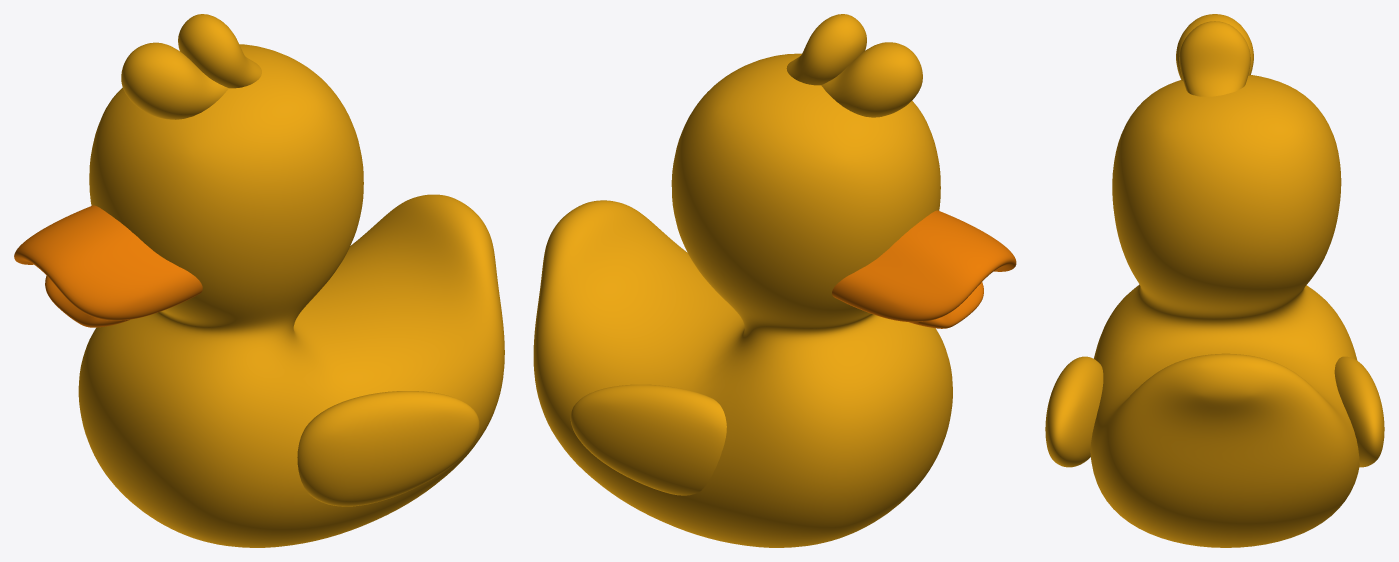
File: RUBBER DUCK.glb
3 renders of one model, left to right at view 1: azimuth 30°, elevation 25°; view 2: azimuth 150°, elevation 25°; view 3: azimuth 270°, elevation 25°, orthographic. The views are drawn at different scales.
Visible parts, largest first — view 1: Cube.005, Cube.010, Cube.006, Cube.009, Cube.008, Cube.007; view 2: Cube.005, Cube.010, Cube.006, Cube.009, Cube.008, Cube.007; view 3: Cube.005, Cube.010, Cube.008, Cube.009.
Part boxes in pixels (x1,y1,x2,y2): Cube.005: [78, 44, 504, 547]; Cube.010: [297, 391, 479, 506]; Cube.006: [14, 205, 202, 320]; Cube.009: [121, 42, 228, 119]; Cube.008: [178, 14, 261, 88]; Cube.007: [45, 275, 129, 327]; Cube.005: [533, 53, 952, 547]; Cube.010: [570, 384, 726, 495]; Cube.006: [832, 210, 1016, 322]; Cube.009: [821, 42, 922, 117]; Cube.008: [786, 14, 866, 85]; Cube.007: [909, 282, 983, 328]; Cube.005: [1090, 75, 1359, 547]; Cube.010: [1045, 356, 1384, 467]; Cube.008: [1179, 21, 1250, 96]; Cube.009: [1176, 14, 1253, 80].
Size of the model in its own units: 1.69 by 1.92 by 1.26.
